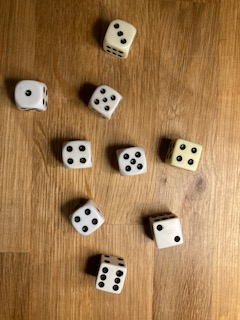five: (86, 83, 123, 120), (115, 145, 149, 177)
four: (164, 137, 205, 174), (68, 198, 106, 237), (59, 138, 94, 170)
one: (13, 78, 50, 114)
six: (94, 252, 128, 296)
three: (101, 18, 137, 59)
two: (146, 212, 185, 249)
